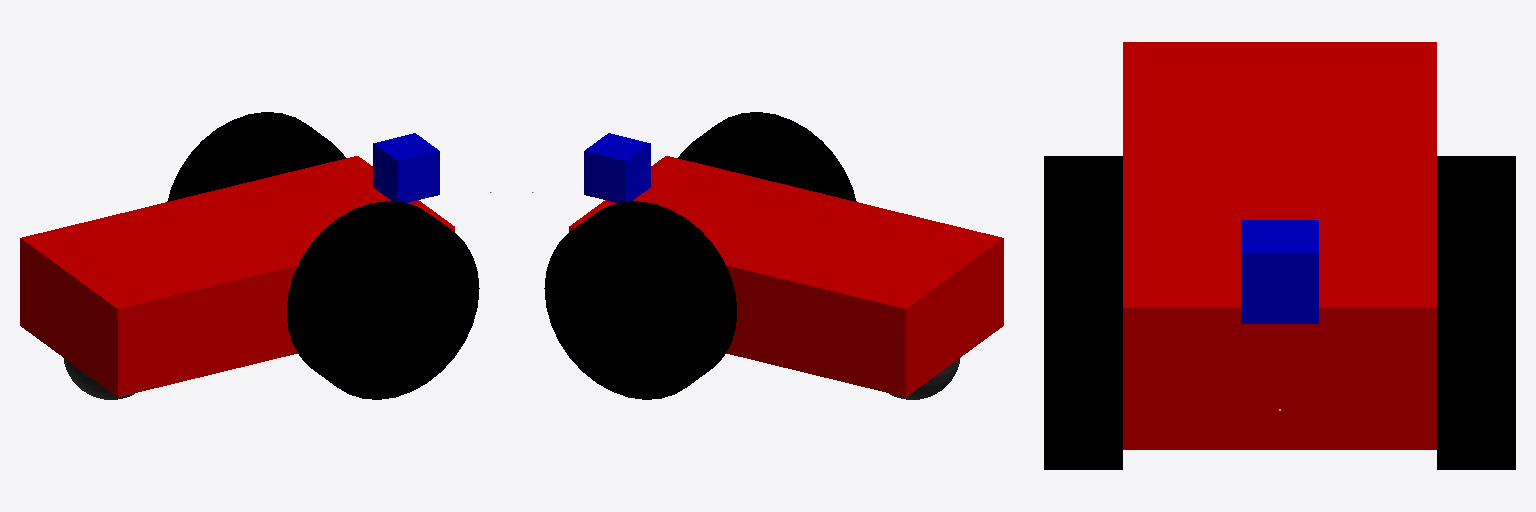
robot.urdf — mybot:
<?xml version="1.0" ?>
<!-- =================================================================================== -->
<!-- |    This document was autogenerated by xacro from simple.urdf.xacro              | -->
<!-- |    EDITING THIS FILE BY HAND IS NOT RECOMMENDED                                 | -->
<!-- =================================================================================== -->
<robot name="mybot" xmlns:xacro="http://www.ros.org/wiki/xacro">
  <material name="black">
    <color rgba="0.0 0.0 0.0 1.0"/>
  </material>
  <material name="blue">
    <color rgba="0.0 0.0 0.8 1.0"/>
  </material>
  <material name="green">
    <color rgba="0.0 0.8 0.0 1.0"/>
  </material>
  <material name="grey">
    <color rgba="0.2 0.2 0.2 1.0"/>
  </material>
  <material name="orange">
    <color rgba="1.0 0.423529411765 0.0392156862745 1.0"/>
  </material>
  <material name="brown">
    <color rgba="0.870588235294 0.811764705882 0.764705882353 1.0"/>
  </material>
  <material name="red">
    <color rgba="0.8 0.0 0.0 1.0"/>
  </material>
  <material name="white">
    <color rgba="1.0 1.0 1.0 1.0"/>
  </material>
  <link name="footprint"/>
  <joint name="base_joint" type="fixed">
    <parent link="footprint"/>
    <child link="chassis"/>
  </joint>
  <link name="chassis">
    <collision>
      <origin rpy="0 0 0" xyz="0 0 0.1"/>
      <geometry>
        <box size="0.4 0.2 0.1"/>
      </geometry>
    </collision>
    <visual>
      <origin rpy="0 0 0" xyz="0 0 0.1"/>
      <geometry>
        <box size="0.4 0.2 0.1"/>
      </geometry>
      <material name="red"/>
    </visual>
    <inertial>
      <origin rpy="0 0 0" xyz="0 0 0.1"/>
      <mass value="50"/>
      <inertia ixx="0.208333333333" ixy="0" ixz="0" iyy="0.708333333333" iyz="0" izz="0.708333333333"/>
    </inertial>
  </link>
  <joint name="fixed" type="fixed">
    <parent link="chassis"/>
    <child link="caster_wheel"/>
  </joint>
  <link name="caster_wheel">
    <collision>
      <origin rpy="0 0 0" xyz="-0.15 0 0.05"/>
      <geometry>
        <sphere radius="0.05"/>
      </geometry>
    </collision>
    <visual>
      <origin rpy="0 0 0" xyz="-0.15 0 0.05"/>
      <geometry>
        <sphere radius="0.05"/>
      </geometry>
      <material name="grey"/>
    </visual>
    <inertial>
      <origin rpy="0 0 0" xyz="-0.15 0 0.05"/>
      <mass value="10"/>
      <inertia ixx="0.005" ixy="0" ixz="0" iyy="0.005" iyz="0" izz="0.005"/>
    </inertial>
  </link>
  <link name="left_wheel">
    <collision>
      <origin rpy="0 1.57079632679 1.57079632679" xyz="0 0 0"/>
      <geometry>
        <cylinder length="0.05" radius="0.1"/>
      </geometry>
    </collision>
    <visual>
      <origin rpy="0 1.57079632679 1.57079632679" xyz="0 0 0"/>
      <geometry>
        <cylinder length="0.05" radius="0.1"/>
      </geometry>
      <material name="black"/>
    </visual>
    <inertial>
      <origin rpy="0 1.57079632679 1.57079632679" xyz="0 0 0"/>
      <mass value="10"/>
      <inertia ixx="0.0135416666667" ixy="0" ixz="0" iyy="0.0135416666667" iyz="0" izz="0.025"/>
    </inertial>
  </link>
  <joint name="left_wheel_hinge" type="continuous">
    <parent link="chassis"/>
    <child link="left_wheel"/>
    <origin rpy="0 0 0" xyz="0.1 -0.125 0.1"/>
    <axis rpy="0 0 0" xyz="0 1 0"/>
    <limit effort="100" velocity="100"/>
    <joint_properties damping="0.0" friction="0.0"/>
  </joint>
  <transmission name="left_trans">
    <type>transmission_interface/SimpleTransmission</type>
    <joint name="left_wheel_hinge"/>
    <actuator name="leftMotor">
      <hardwareInterface>EffortJointInterface</hardwareInterface>
      <mechanicalReduction>10</mechanicalReduction>
    </actuator>
  </transmission>
  <link name="right_wheel">
    <collision>
      <origin rpy="0 1.57079632679 1.57079632679" xyz="0 0 0"/>
      <geometry>
        <cylinder length="0.05" radius="0.1"/>
      </geometry>
    </collision>
    <visual>
      <origin rpy="0 1.57079632679 1.57079632679" xyz="0 0 0"/>
      <geometry>
        <cylinder length="0.05" radius="0.1"/>
      </geometry>
      <material name="black"/>
    </visual>
    <inertial>
      <origin rpy="0 1.57079632679 1.57079632679" xyz="0 0 0"/>
      <mass value="10"/>
      <inertia ixx="0.0135416666667" ixy="0" ixz="0" iyy="0.0135416666667" iyz="0" izz="0.025"/>
    </inertial>
  </link>
  <joint name="right_wheel_hinge" type="continuous">
    <parent link="chassis"/>
    <child link="right_wheel"/>
    <origin rpy="0 0 0" xyz="0.1 0.125 0.1"/>
    <axis rpy="0 0 0" xyz="0 1 0"/>
    <limit effort="100" velocity="100"/>
    <joint_properties damping="0.0" friction="0.0"/>
  </joint>
  <transmission name="right_trans">
    <type>transmission_interface/SimpleTransmission</type>
    <joint name="right_wheel_hinge"/>
    <actuator name="rightMotor">
      <hardwareInterface>EffortJointInterface</hardwareInterface>
      <mechanicalReduction>10</mechanicalReduction>
    </actuator>
  </transmission>
  <joint name="camera_joint" type="fixed">
    <origin rpy="0 0 0" xyz="0.2 0 0.175"/>
    <parent link="chassis"/>
    <child link="camera"/>
  </joint>
  <link name="camera">
    <collision>
      <origin rpy="0 0 0" xyz="0 0 0"/>
      <geometry>
        <box size="0.05 0.05 0.05"/>
      </geometry>
    </collision>
    <visual>
      <origin rpy="0 0 0" xyz="0 0 0"/>
      <geometry>
        <box size="0.05 0.05 0.05"/>
      </geometry>
      <material name="blue"/>
    </visual>
    <inertial>
      <mass value="0.1"/>
      <origin rpy="0 0 0" xyz="0 0 0"/>
      <inertia ixx="4.16666666667e-05" ixy="0" ixz="0" iyy="4.16666666667e-05" iyz="0" izz="4.16666666667e-05"/>
    </inertial>
  </link>
  <joint name="camera_target_joint" type="fixed">
    <origin rpy="0 0 0" xyz="0.1 0 -0.05"/>
    <parent link="camera"/>
    <child link="camera_target"/>
  </joint>
  <link name="camera_target">
    <collision>
      <origin rpy="0 0 0" xyz="0 0 0"/>
      <geometry>
        <box size="0.0 0.0 0.0"/>
      </geometry>
    </collision>
    <visual>
      <origin rpy="0 0 0" xyz="0 0 0"/>
      <geometry>
        <box size="0.001 0.001 0.001"/>
      </geometry>
      <material name="white"/>
    </visual>
    <inertial>
      <mass value="0.0"/>
      <origin rpy="0 0 0" xyz="0 0 0"/>
      <inertia ixx="0" ixy="0" ixz="0" iyy="0" iyz="0" izz="0"/>
    </inertial>
  </link>
</robot>

--- Render facts (derived) ---
3 views of the same robot in one strip: view 1: azimuth 30°, elevation 25°; view 2: azimuth 150°, elevation 25°; view 3: azimuth 270°, elevation 25° (orthographic).
Robot: mybot — 7 links, 6 joints (2 continuous, 4 fixed); root link footprint; default pose: every joint at zero.
Visible links, largest first — view 1: chassis, left_wheel, right_wheel, camera, caster_wheel; view 2: chassis, right_wheel, left_wheel, camera, caster_wheel; view 3: chassis, left_wheel, right_wheel, camera.
Link boxes in pixels (x1=…): chassis: x1=20, y1=156, x2=454, y2=396; left_wheel: x1=287, y1=201, x2=479, y2=399; right_wheel: x1=167, y1=112, x2=345, y2=201; camera: x1=373, y1=133, x2=439, y2=202; caster_wheel: x1=64, y1=358, x2=134, y2=399; chassis: x1=569, y1=156, x2=1003, y2=396; right_wheel: x1=544, y1=201, x2=736, y2=399; left_wheel: x1=678, y1=112, x2=856, y2=201; camera: x1=584, y1=133, x2=650, y2=202; caster_wheel: x1=889, y1=358, x2=959, y2=399; chassis: x1=1123, y1=42, x2=1436, y2=449; left_wheel: x1=1044, y1=156, x2=1122, y2=469; right_wheel: x1=1437, y1=156, x2=1515, y2=469; camera: x1=1241, y1=220, x2=1318, y2=323.
Size in the robot's own frame: 0.5005 by 0.3 by 0.2 metres.
Geometry: primitives only (box / cylinder / sphere), no mesh files.